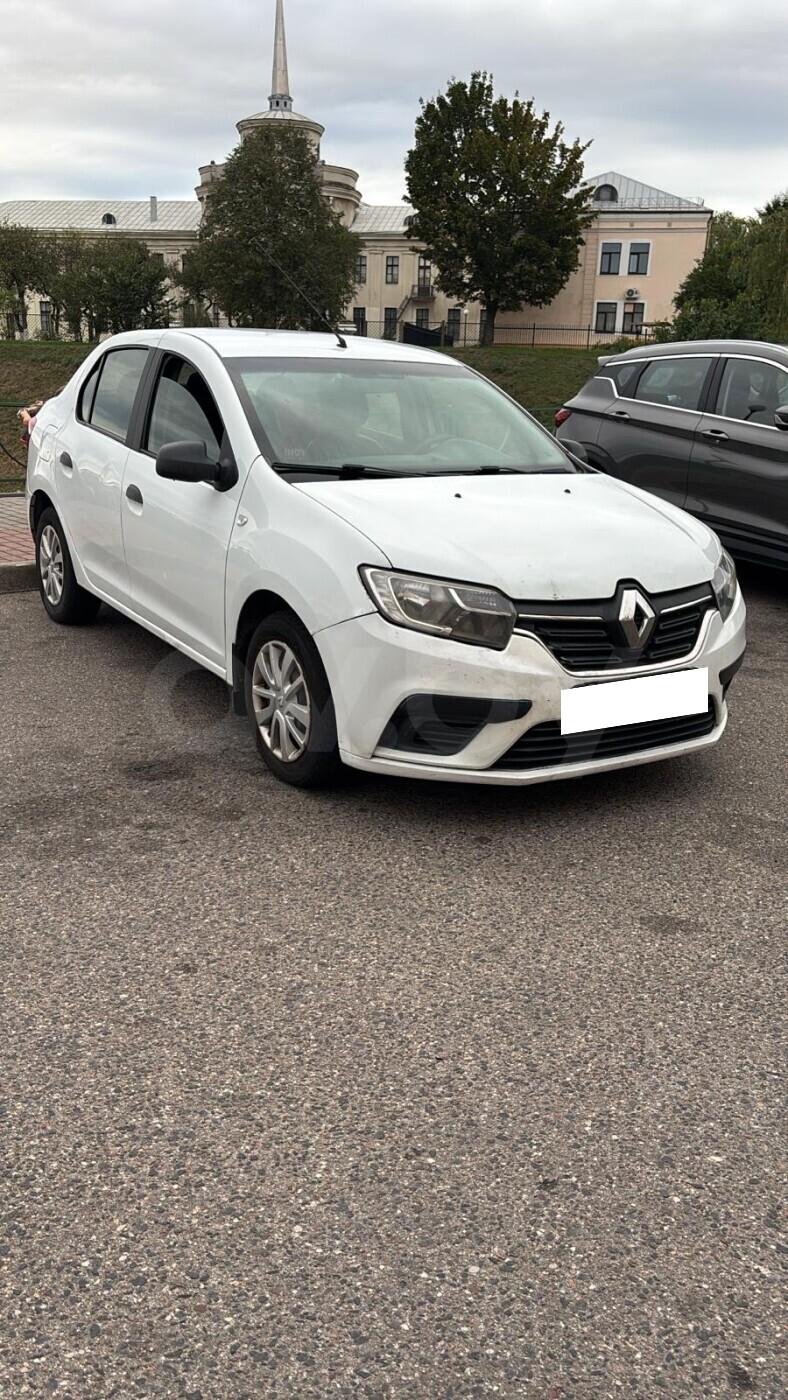Logan_2018: (18, 324, 754, 806)
